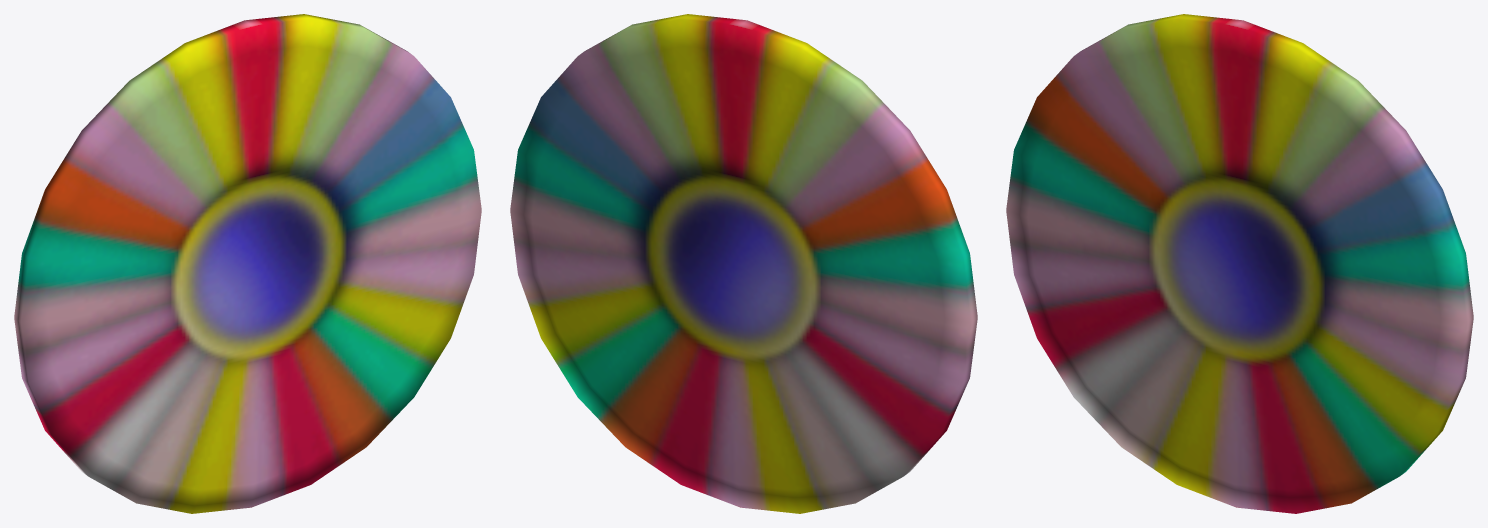
The model's file is icon1.ico.obj.
3 views of the same model, side by side, from view 1: azimuth 30°, elevation 25°; view 2: azimuth 150°, elevation 25°; view 3: azimuth 330°, elevation 25° (orthographic).
Bounding box in the file's own units: 3.97 × 3.97 × 0.2388.
Materials: 1 (1 with a texture image).
